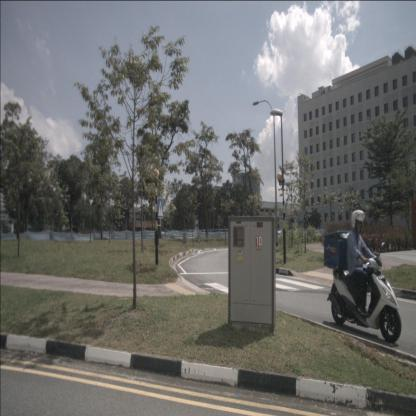vehicle-motorcycle: (323, 208, 402, 344)
